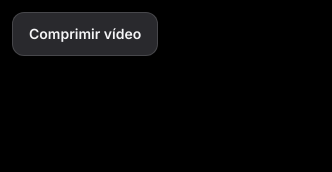
Test: Button carregando › sem ícone, mantém a largura e o nome enquanto carrega
Click the button "Comprimir vídeo".
click(85, 34)  # box [12, 12, 158, 56]
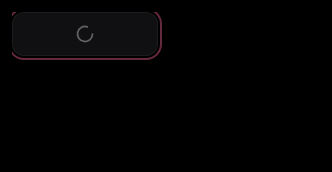
Expected: the button named "Comprimir vídeo" has attribute aria-busy="true", [12, 12, 158, 56]
